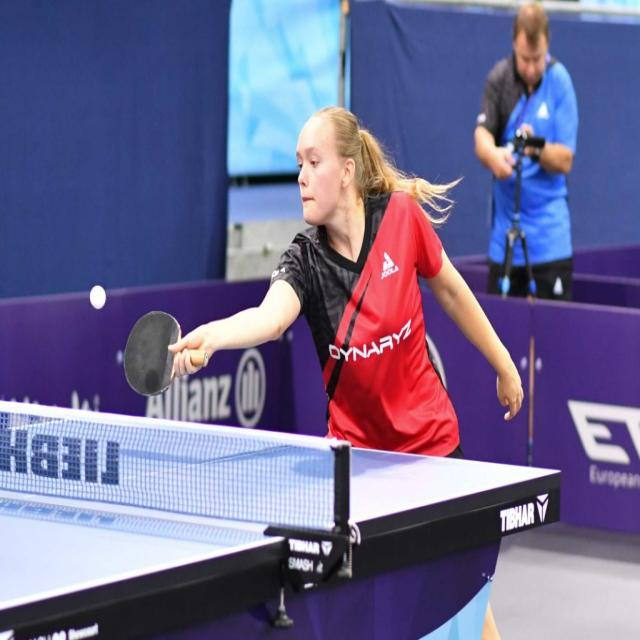TT Net: (0, 400, 354, 555)
TT Racket: (113, 295, 191, 403)
TT Table: (0, 413, 562, 612)
